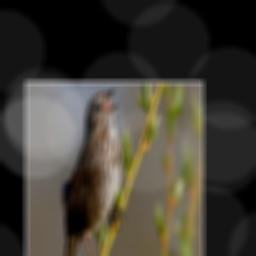Sparrow: (61, 88, 126, 256)
